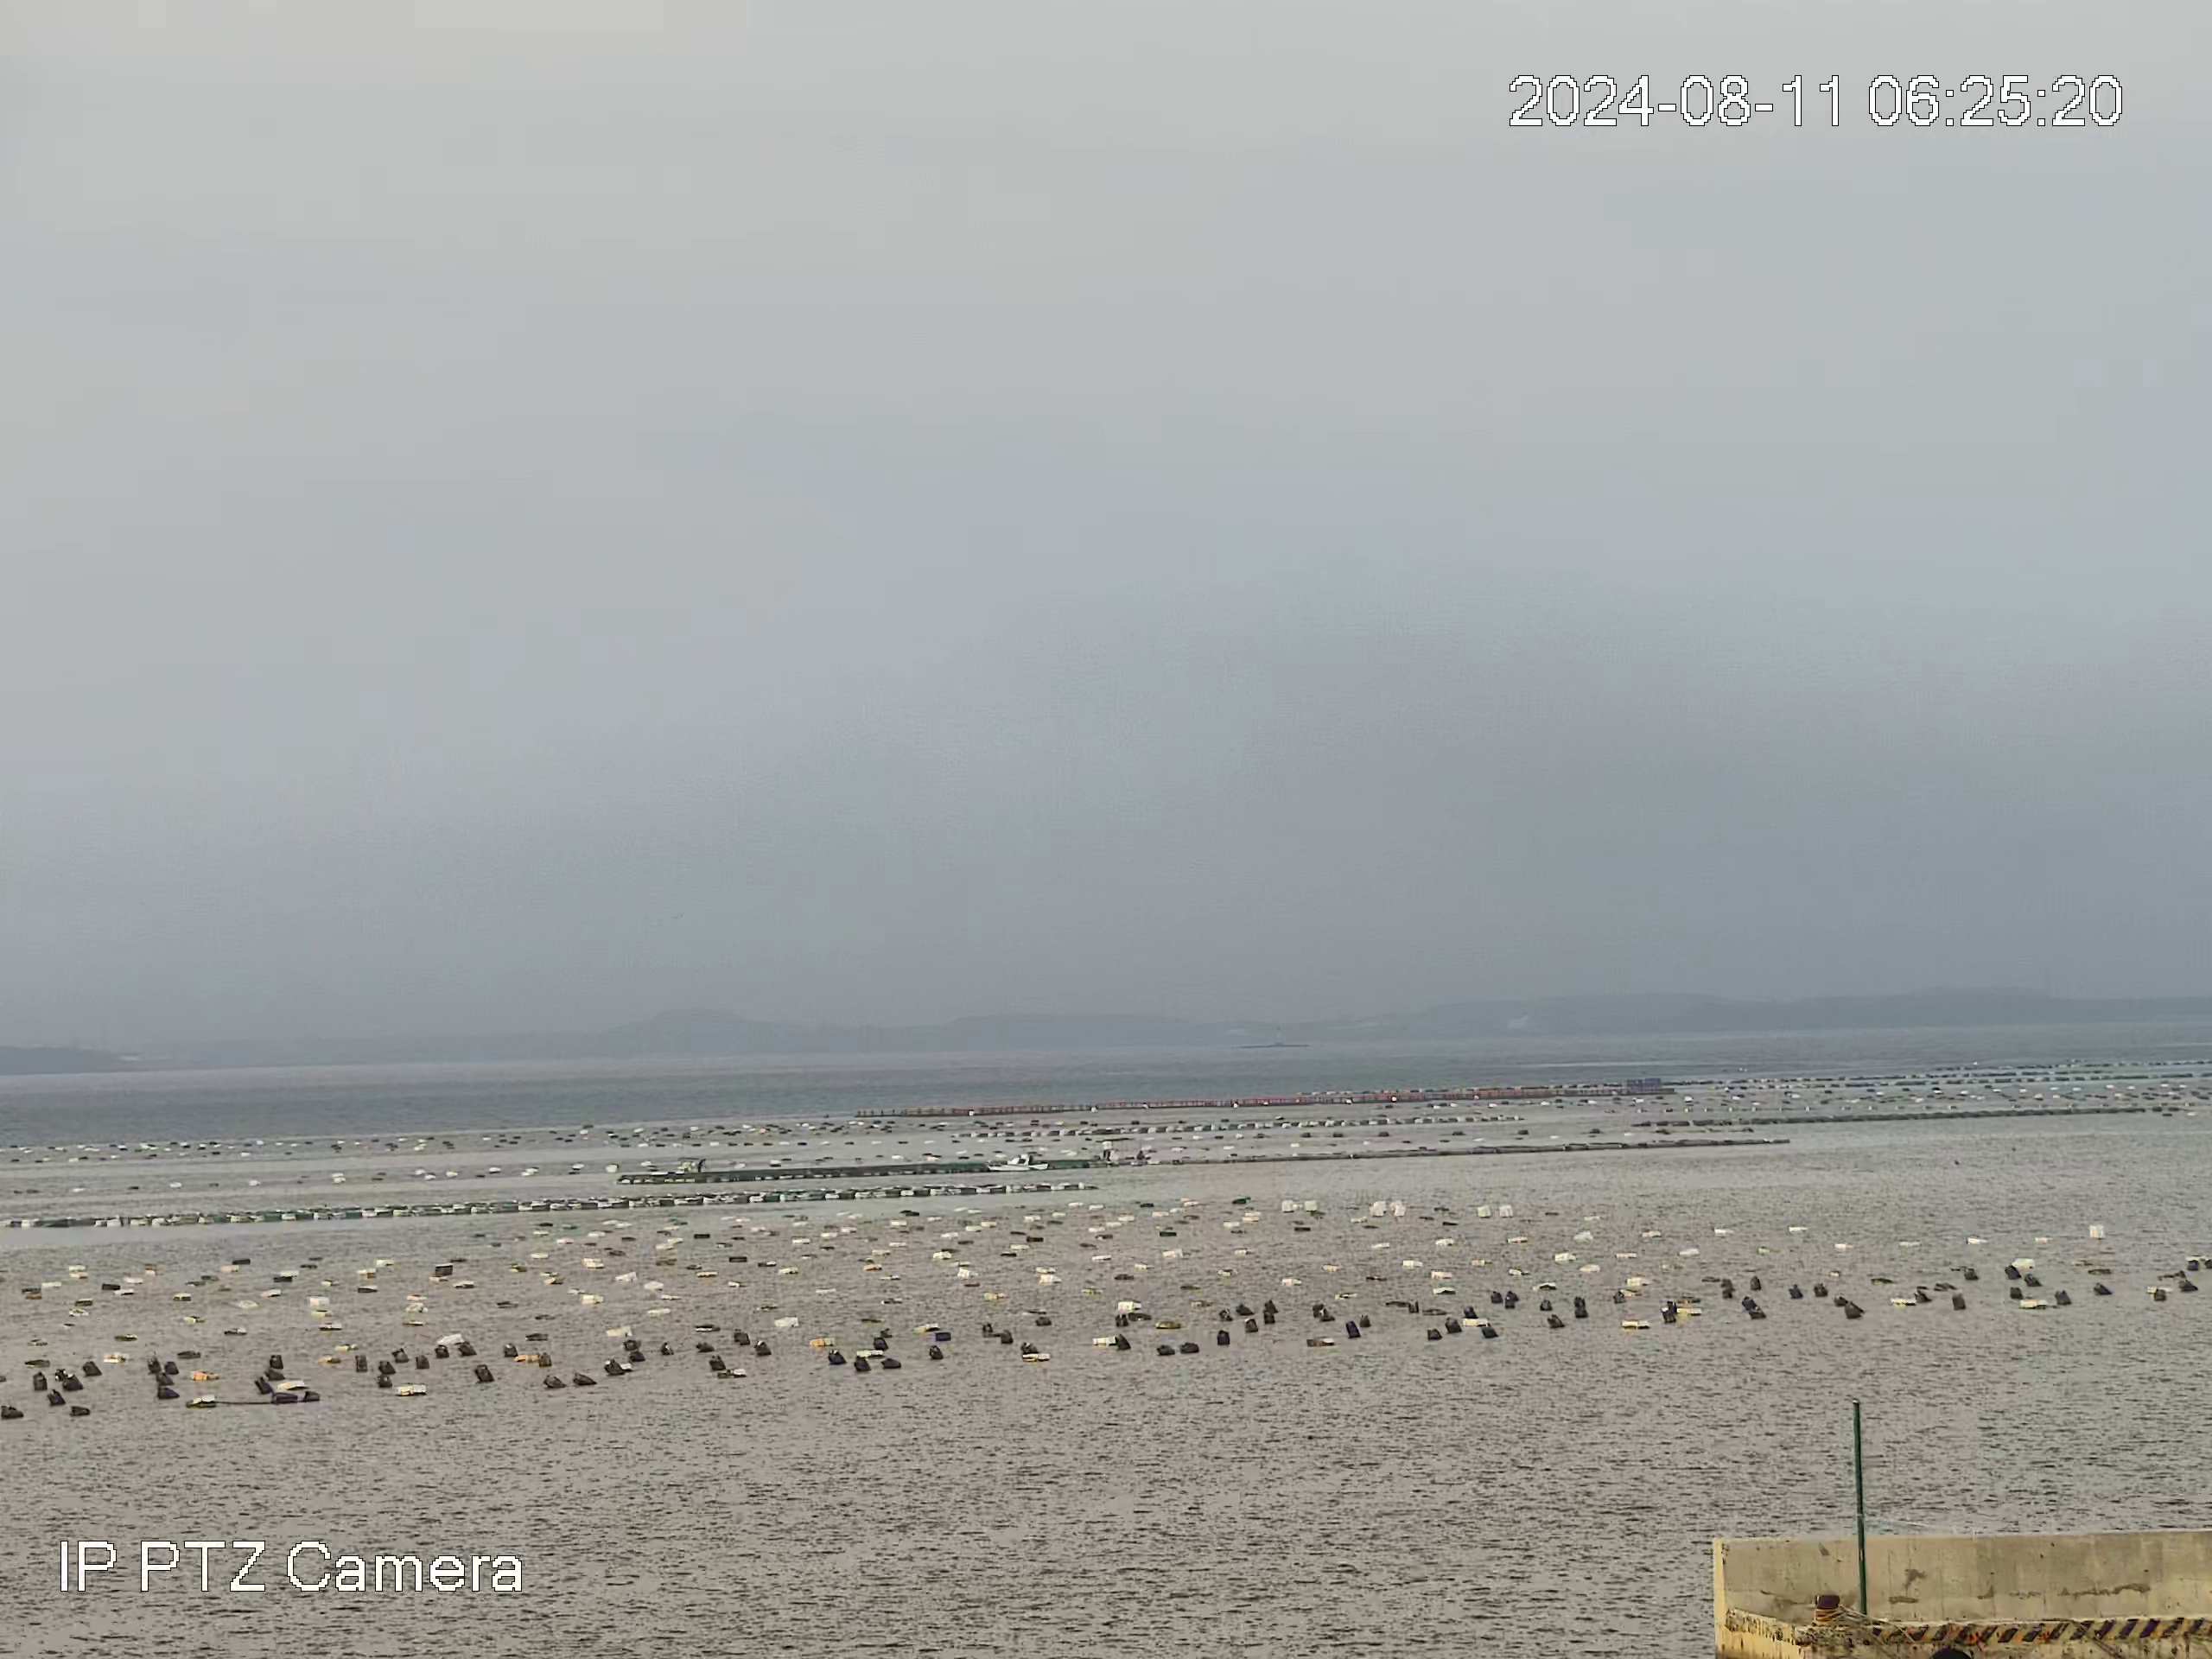boat: (986, 1150, 1050, 1173)
